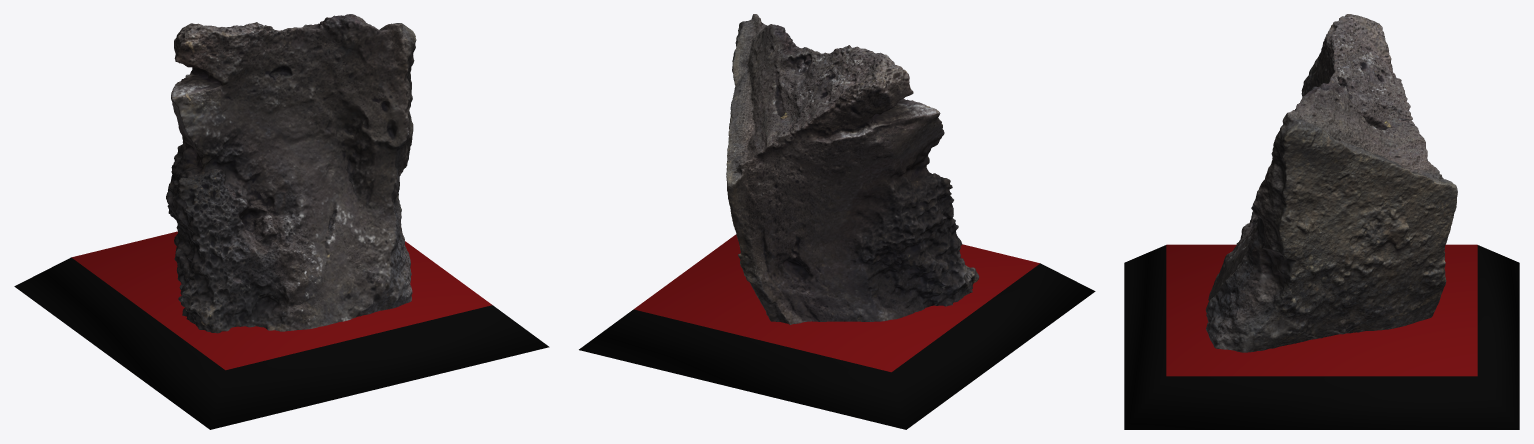
The model's file is Bomba_Basaltica.glb.
3 views of the same model, side by side, from view 1: azimuth 30°, elevation 25°; view 2: azimuth 150°, elevation 25°; view 3: azimuth 270°, elevation 25° (orthographic). The views are drawn at different scales.
Parts seen in each view (by area): view 1: texturedMesh.001; view 2: texturedMesh.001; view 3: texturedMesh.001.
Boxes of the visible parts, bbox=[...] form: texturedMesh.001: bbox=[14, 14, 549, 429]; texturedMesh.001: bbox=[579, 14, 1095, 429]; texturedMesh.001: bbox=[1124, 14, 1519, 429].
Size of the model in its own units: 10 by 8.35 by 10.
4 materials, 2 textured.
